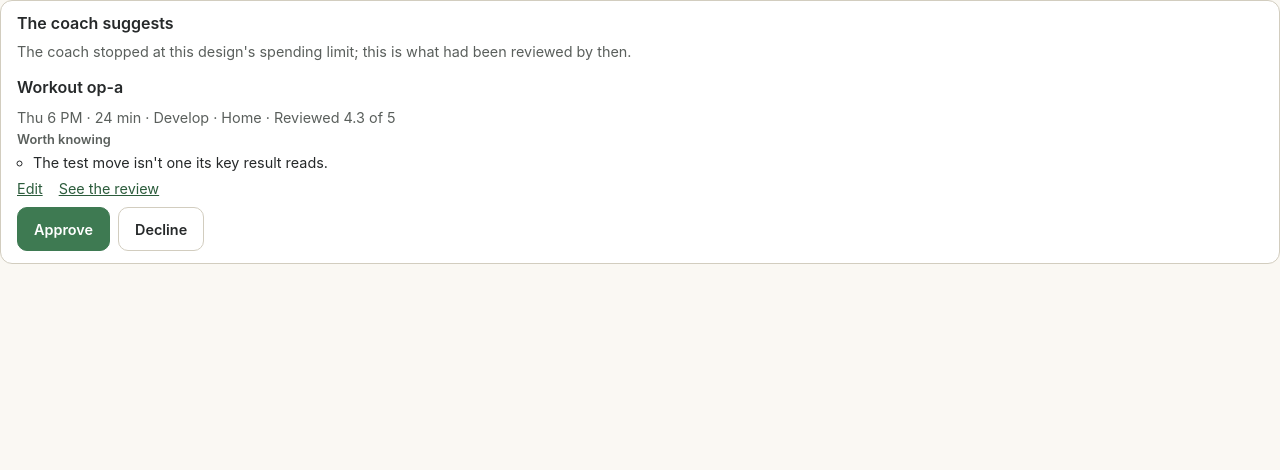
Test case: a designed suggestion's card › each workout's line: day and time, minutes, effort, place, the review's mean and the day's costs; the scores and the ideas one tap down; Edit opens its draft
The width and height of the screenshot is (1280, 470).
Click the button "Workout op-a".
click(70, 87)  # box x1=17 y1=71 x2=123 y2=103
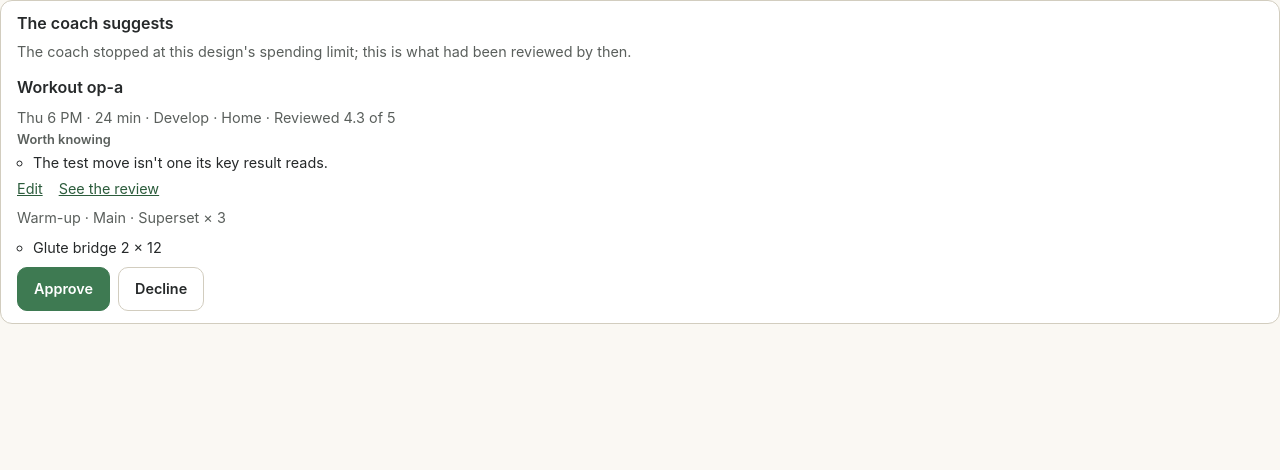
Result: the element with class "coach-pc-detail" shows "Glute bridge 2 × 12" at x1=33 y1=239 x2=162 y2=256
Click the button "See the review".
click(109, 189)  # box x1=59 y1=178 x2=159 y2=199
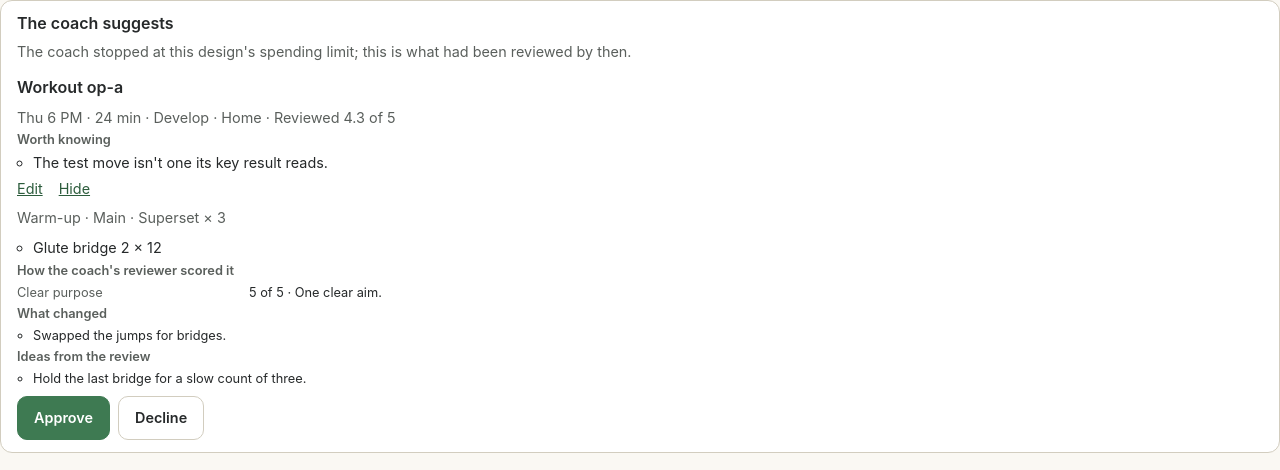
Result: the element that starts with "How the coach's reviewer scored it" shows "5 of 5 · One clear aim." at x1=17 y1=263 x2=382 y2=386
Result: the element that starts with "How the coach's reviewer scored it" shows "Swapped the jumps for bridges." at x1=33 y1=328 x2=226 y2=343
